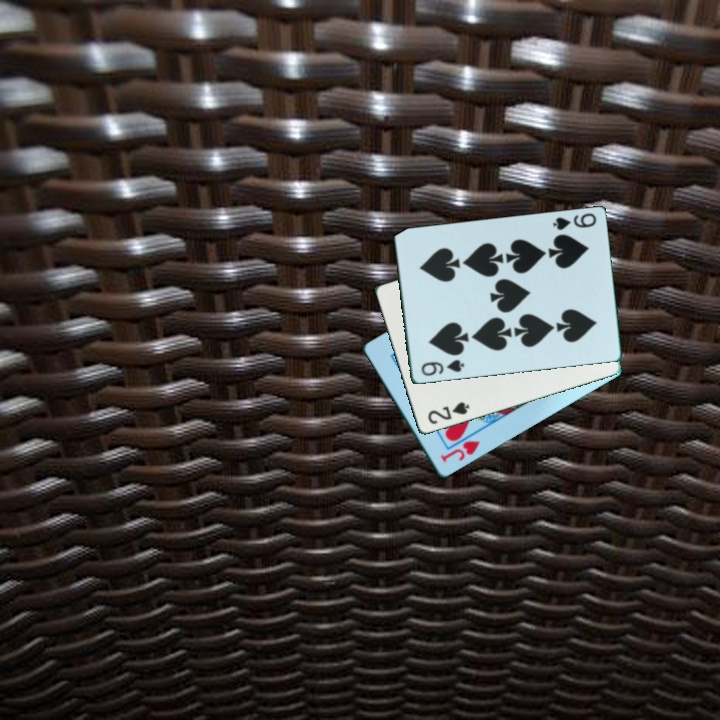2s: (424, 398, 472, 428)
9s: (417, 356, 467, 379), (549, 210, 599, 233)
Jh: (437, 437, 483, 466)
